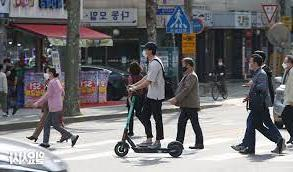nonhelmet: (113, 39, 184, 158)
